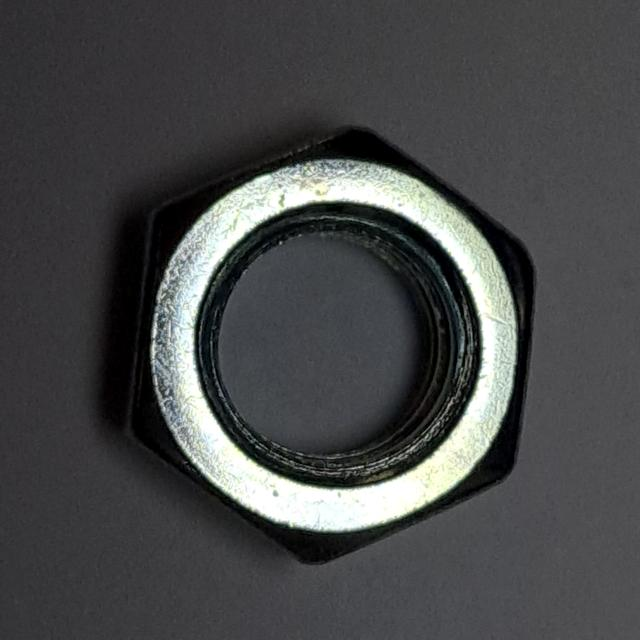Excellent: (111, 117, 544, 579)
